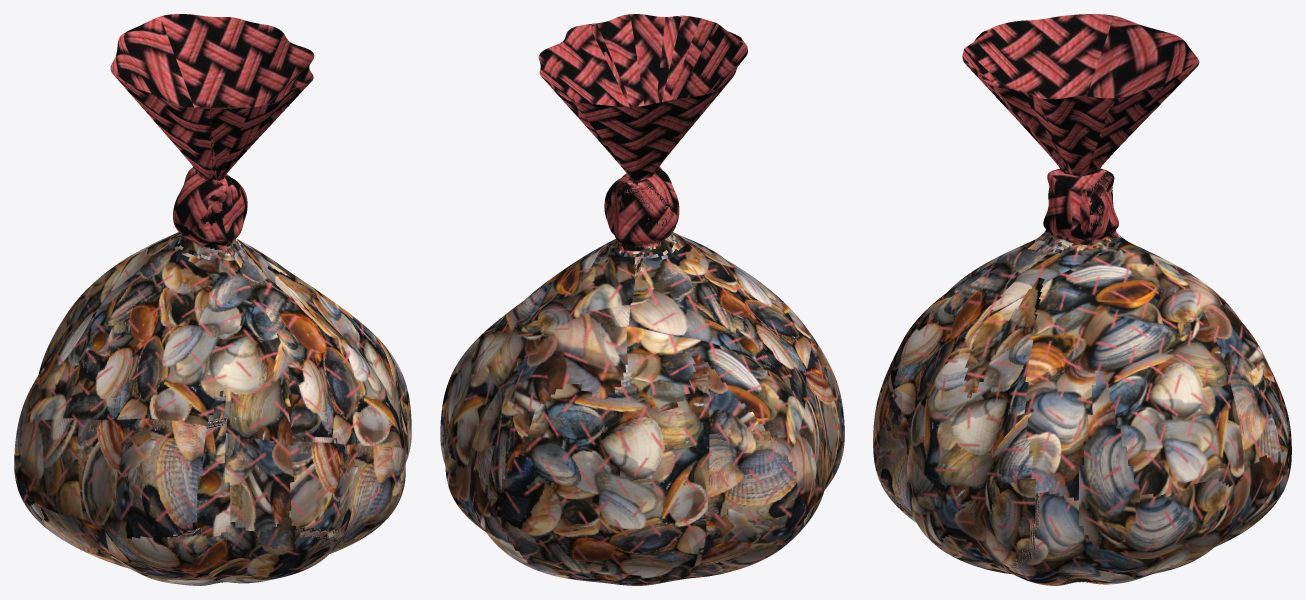
The model's file is bolsa_almejas.fbx.
3 renders of one model, left to right at view 1: azimuth 30°, elevation 25°; view 2: azimuth 150°, elevation 25°; view 3: azimuth 270°, elevation 25°, orthographic.
Parts seen in each view (by area): view 1: Circle; view 2: Circle; view 3: Circle.
Boxes of the visible parts, x1=… form: Circle: x1=14, y1=14, x2=411, y2=585; Circle: x1=440, y1=14, x2=844, y2=585; Circle: x1=873, y1=14, x2=1291, y2=585.
Bounding box in the file's own units: 144 × 202 × 150.
